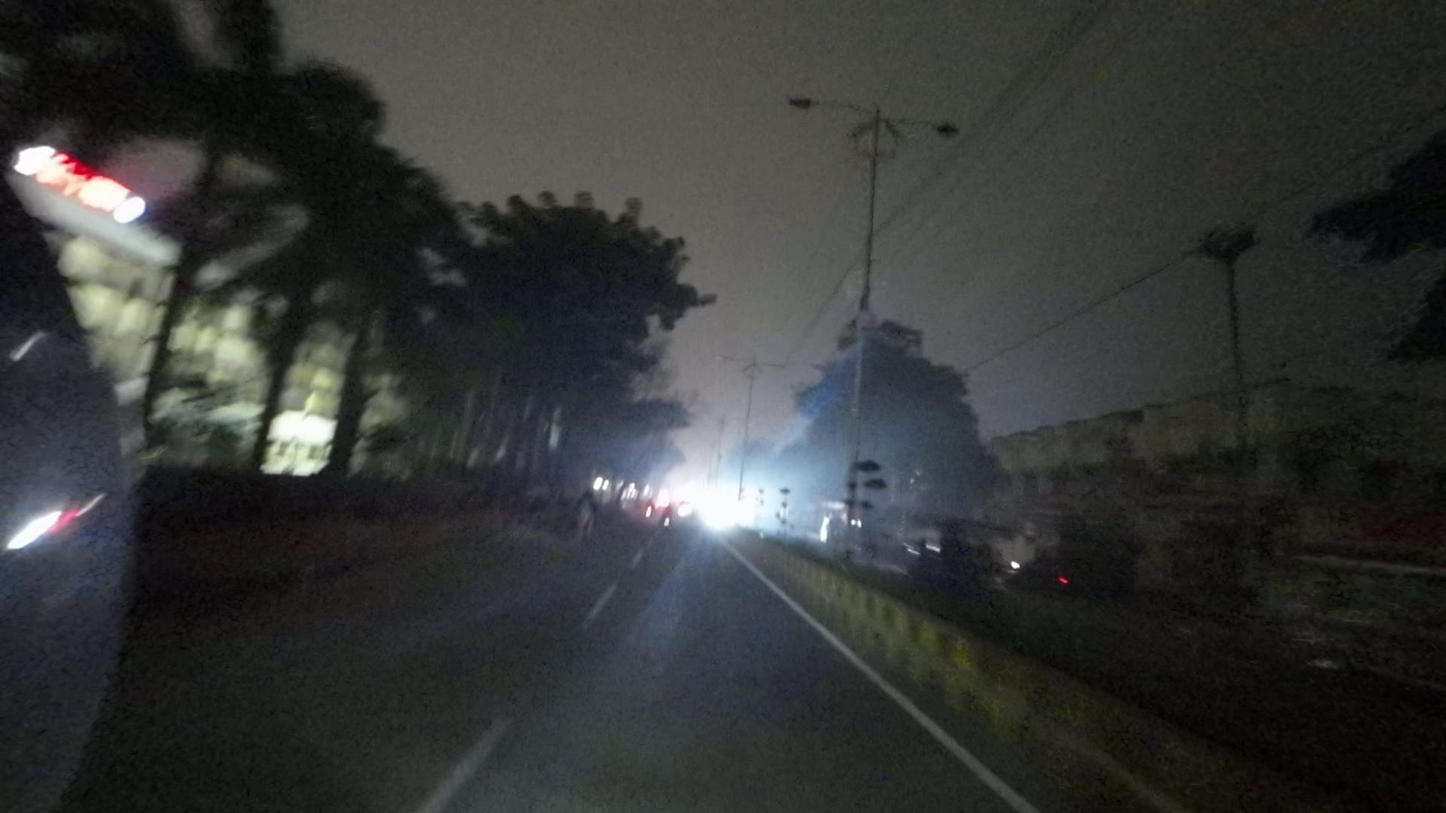streetlight: (788, 94, 874, 117), (898, 113, 964, 139)
